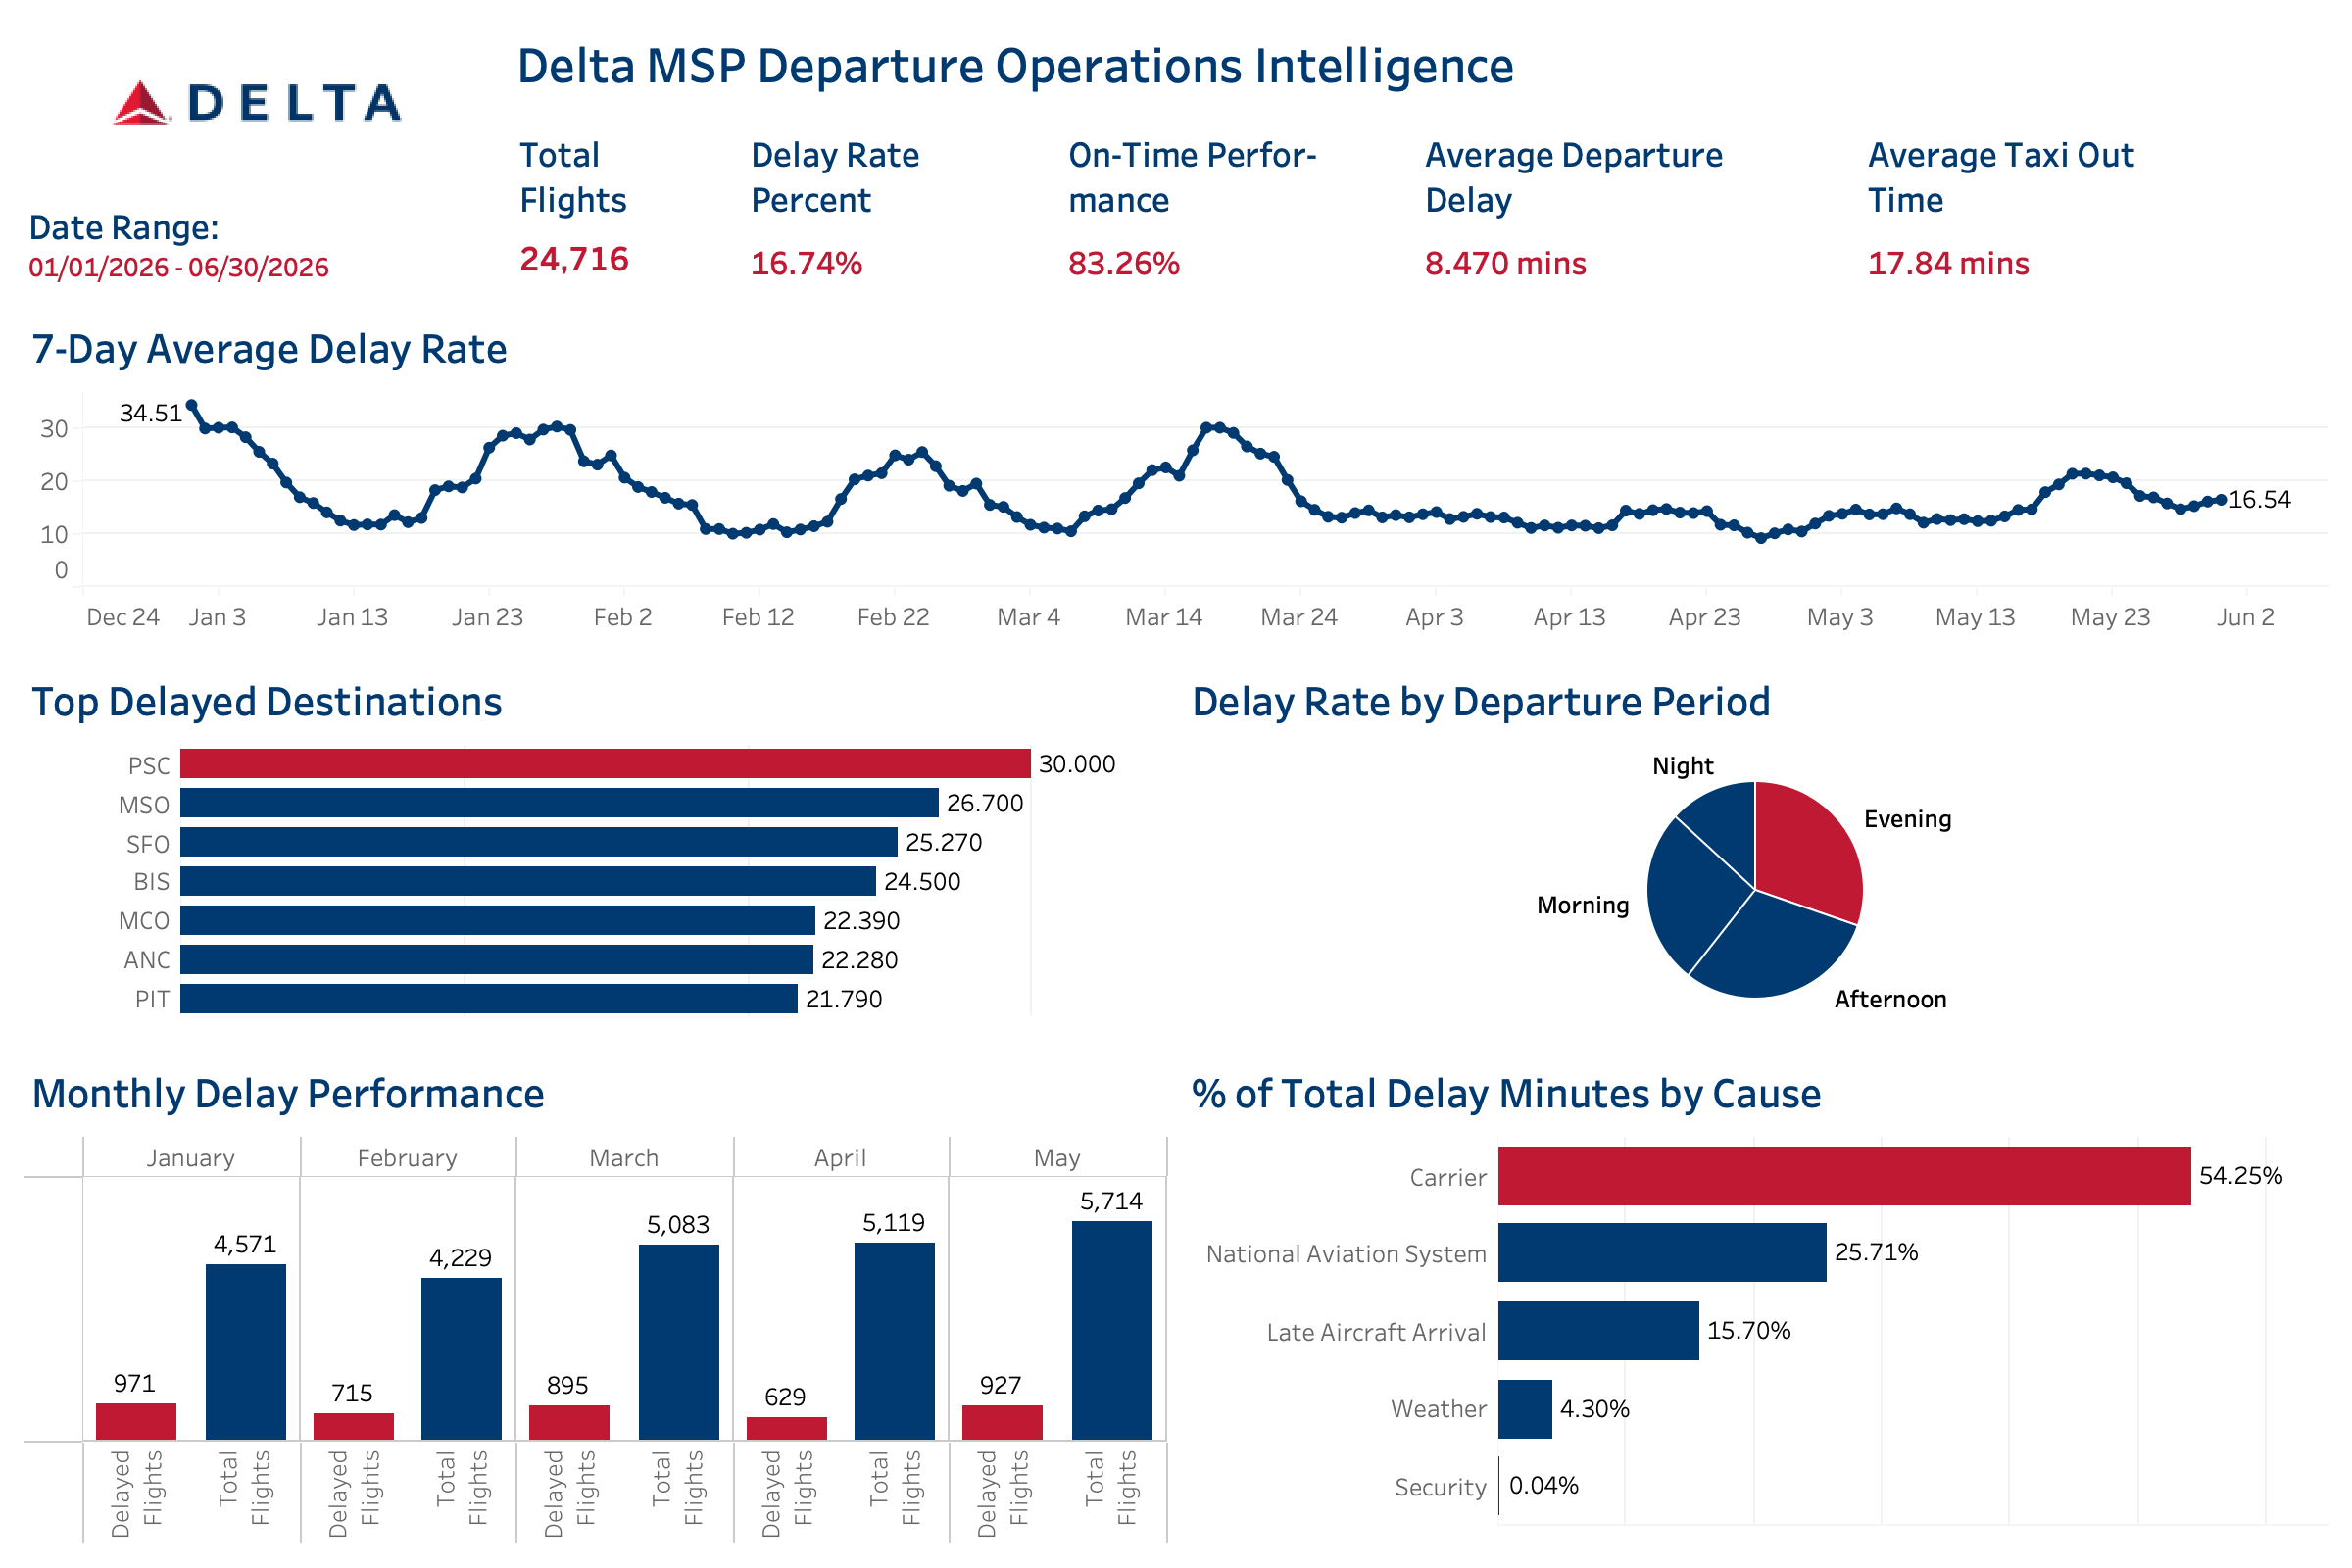

What the dashboard file says about the page in this screenshot:
{"tool":"tableau","page":{"name":"Executive Operations Overview","canvas":[1200,800],"ordinal":0},"visuals":[{"type":"image","param":"/Users/anukritisingh/Documents/My Tableau Repository/Workbooks/Airline_Delay_Int","box":[8,8,249,88]},{"type":"text","box":[257.1,8,934.9,48]},{"type":"worksheet","title":"KPI - Total Flights","mark":"Automatic","box":[257.1,56,117.9,97]},{"type":"worksheet","title":"KPI - Delay Rate","mark":"Automatic","box":[375,56,162.4,97]},{"type":"worksheet","title":"KPI - On-Time Performance","mark":"Automatic","box":[537.4,56,181.7,97]},{"type":"worksheet","title":"KPI - Average Departure Delay","mark":"Automatic","box":[719.1,56,226.2,97]},{"type":"worksheet","title":"KPI - Average Taxi-Out Time","mark":"Automatic","box":[945.3,56,246.7,97]},{"type":"text","box":[8,96,249,57]},{"type":"worksheet","title":"Daily Delay Rate Trend","mark":"Line","cols":["flight_date"],"box":[8,153,1184,180]},{"type":"worksheet","title":"Top Delayed Destinations","mark":"Automatic","rows":["destination_airport"],"cols":["delay_rate_percent"],"box":[8,333,592,200]},{"type":"worksheet","title":"Delay Rate by Departure Period","mark":"Pie","box":[600,333,592,200]},{"type":"worksheet","title":"Monthly Delay Performance","mark":"Bar","cols":["flight_date"],"box":[8,533,592,259]},{"type":"worksheet","title":"Delay Minutes by Cause","mark":"Automatic","rows":["delay_cause"],"cols":["delay_minutes"],"box":[600,533,592,259]}]}

Visuals, with their boxes in screenshot pixels (x1, y1, x2, y2), scaled from the page's 1200x800 canvas onto the 2352x1568 screenshot:
image: [left=16, top=16, right=504, bottom=188]
text: [left=504, top=16, right=2336, bottom=110]
"KPI - Total Flights" worksheet: [left=504, top=110, right=735, bottom=300]
"KPI - Delay Rate" worksheet: [left=735, top=110, right=1053, bottom=300]
"KPI - On-Time Performance" worksheet: [left=1053, top=110, right=1409, bottom=300]
"KPI - Average Departure Delay" worksheet: [left=1409, top=110, right=1853, bottom=300]
"KPI - Average Taxi-Out Time" worksheet: [left=1853, top=110, right=2336, bottom=300]
text: [left=16, top=188, right=504, bottom=300]
"Daily Delay Rate Trend" worksheet (Line marks): [left=16, top=300, right=2336, bottom=653]
"Top Delayed Destinations" worksheet: [left=16, top=653, right=1176, bottom=1045]
"Delay Rate by Departure Period" worksheet (Pie marks): [left=1176, top=653, right=2336, bottom=1045]
"Monthly Delay Performance" worksheet (Bar marks): [left=16, top=1045, right=1176, bottom=1552]
"Delay Minutes by Cause" worksheet: [left=1176, top=1045, right=2336, bottom=1552]
